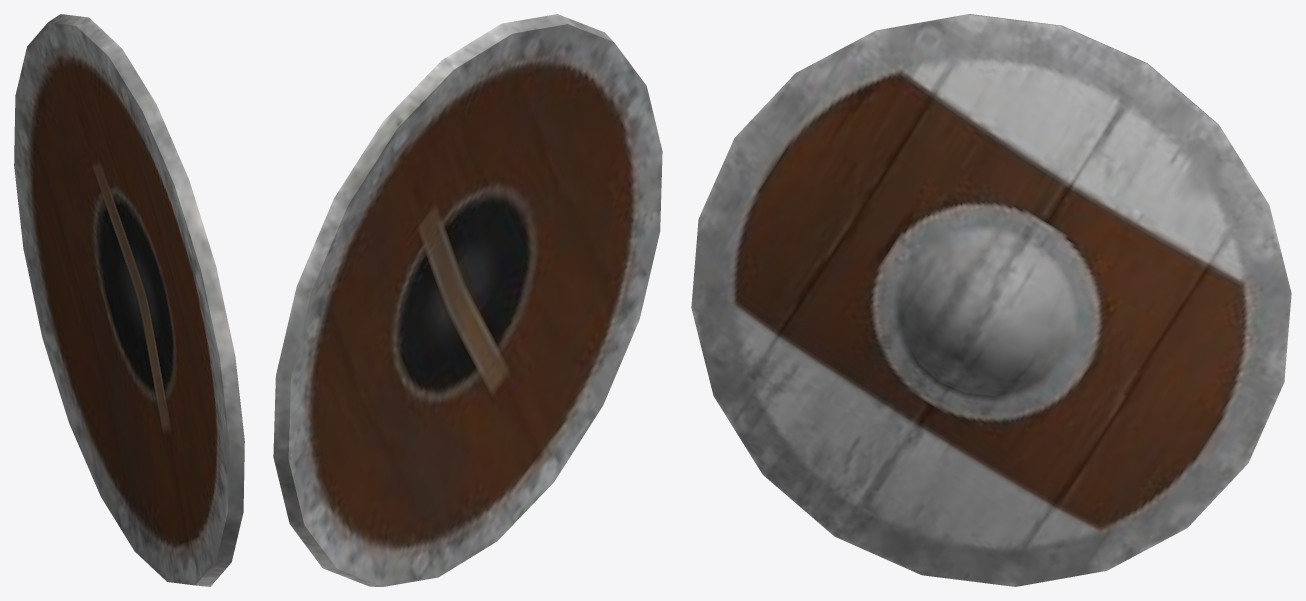
File: rider-shield-slice-coppershields.glb
3 views of the same model, side by side, from view 1: azimuth 30°, elevation 25°; view 2: azimuth 150°, elevation 25°; view 3: azimuth 270°, elevation 25° (orthographic). The views are drawn at different scales.
Bounding box in the file's own units: 0.1237 × 0.494 × 0.4907.
1 material, 1 textured.
